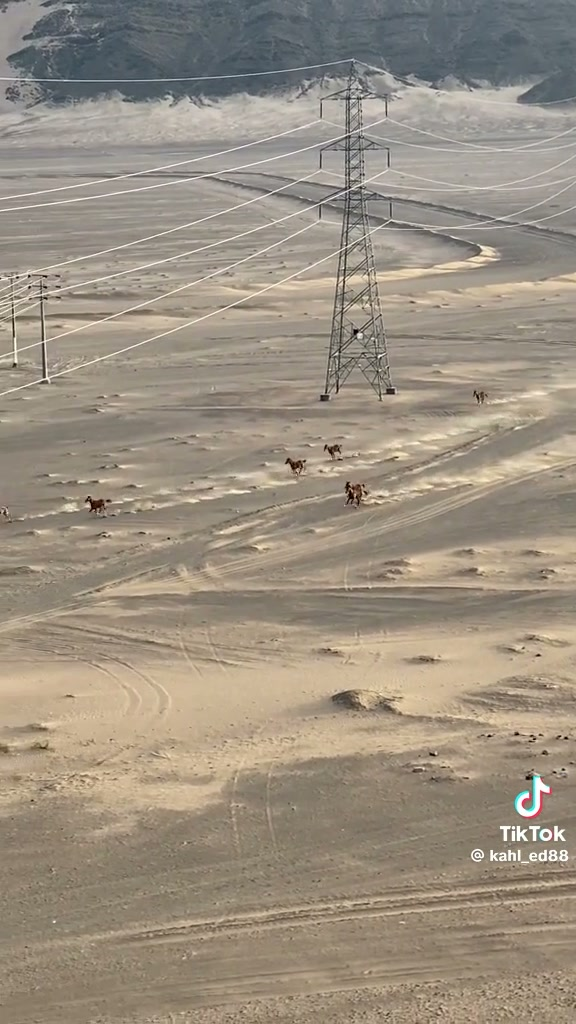animal: (345, 481, 367, 506), (85, 496, 110, 514), (285, 457, 305, 476), (324, 444, 341, 460), (473, 390, 487, 404), (0, 506, 12, 522)
vehicle_track: (114, 869, 575, 943), (313, 458, 575, 556), (0, 561, 171, 635), (386, 420, 534, 482), (387, 426, 518, 483), (114, 656, 171, 715), (87, 657, 141, 717)
